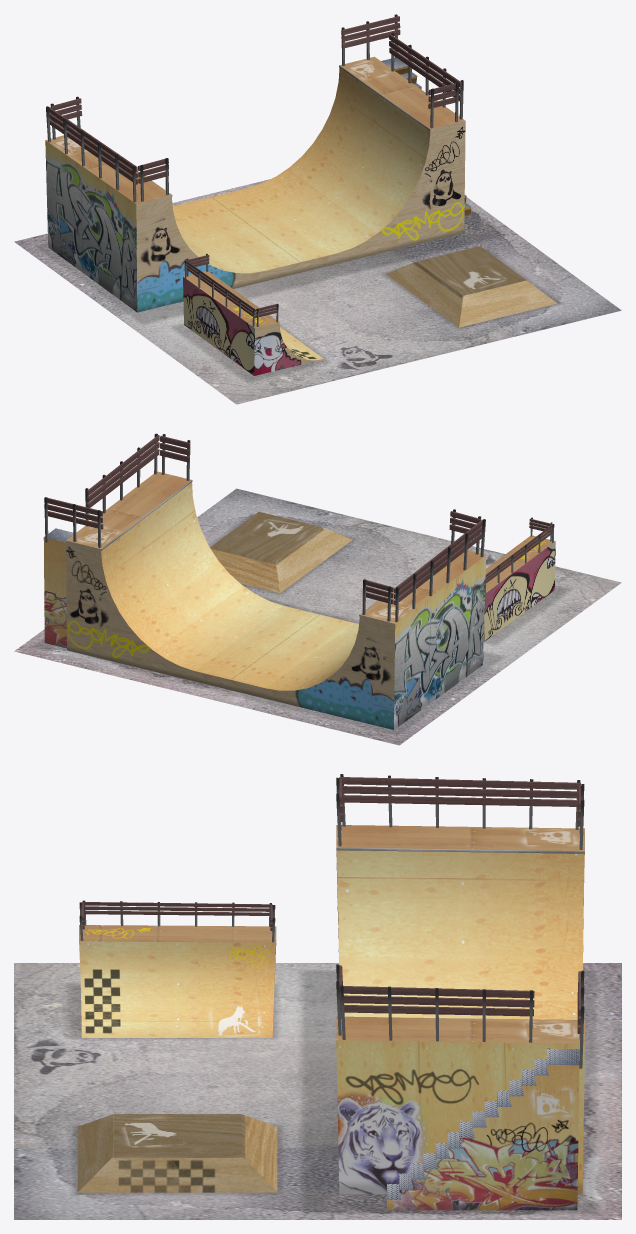
The model's file is Skate Park.fbx.
3 renders of one model, top to bottom at view 1: azimuth 30°, elevation 25°; view 2: azimuth 150°, elevation 25°; view 3: azimuth 270°, elevation 25°, orthographic. The views are drawn at different scales.
Visible parts, largest first — view 1: skate_park; view 2: skate_park; view 3: skate_park.
Part boxes in pixels (box(x1,y1,x2,y2)): skate_park: box(14, 14, 621, 404); skate_park: box(14, 433, 621, 745); skate_park: box(14, 774, 621, 1219).
Bounding box in the file's own units: 10 × 3.77 × 10.
1 material, 1 textured.
